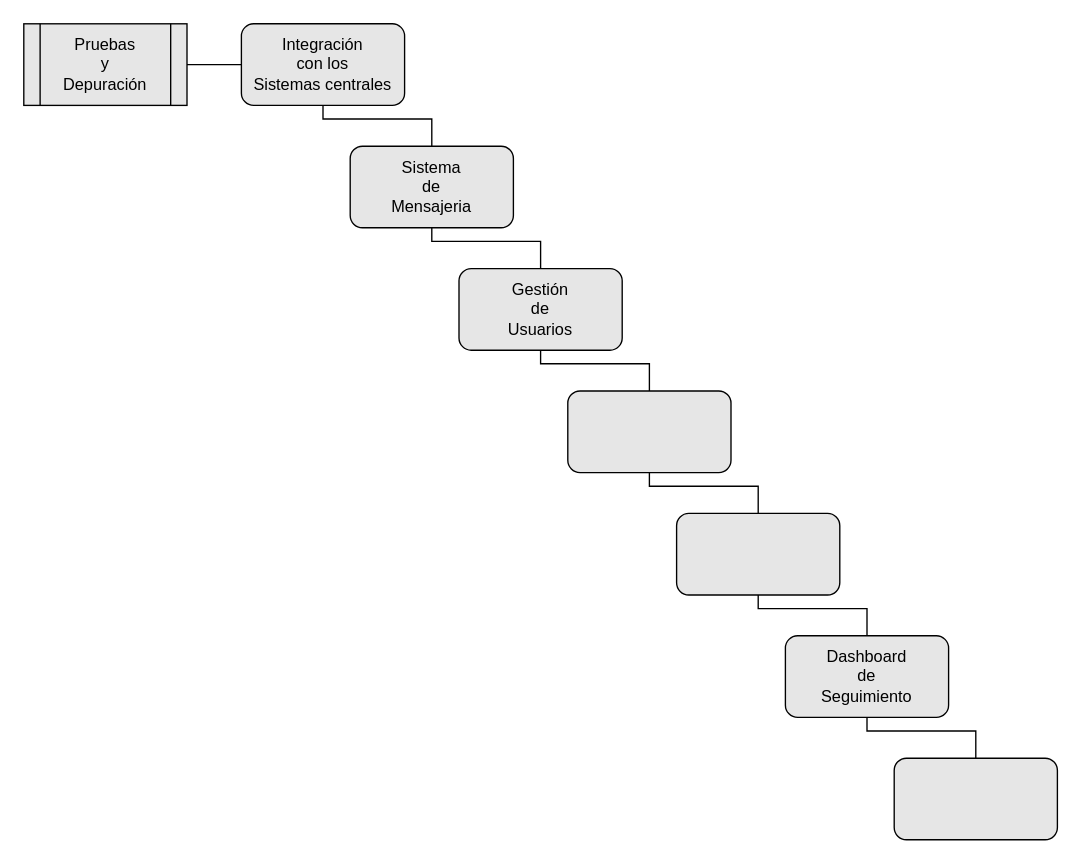
Some shapes in this 1081 by 864 pixel diagram are drawn without their labels. The shapes that lost their labels are listed below. From the top down, each one's centre as x and y in pixels, then its label:
(648,431): Sistema de Geoposicionamiento
(757,553): App de Avisos y Mensajeria
(975,798): Gestión de Emergencias
